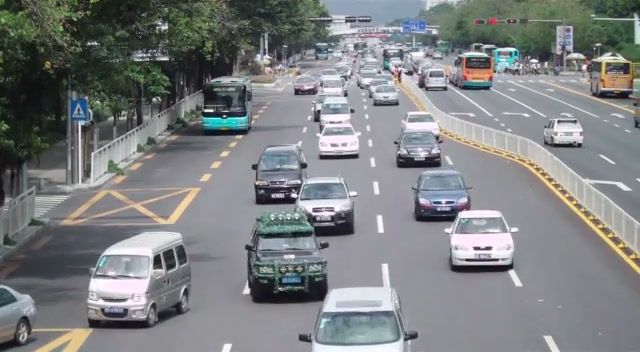bus: (201, 75, 252, 133), (589, 54, 634, 97), (450, 52, 494, 89), (490, 46, 520, 73)
car: (85, 230, 192, 328), (298, 286, 419, 352), (244, 209, 329, 302), (445, 209, 518, 271), (294, 175, 357, 234), (251, 144, 308, 204), (411, 167, 472, 221), (0, 285, 37, 346), (395, 131, 442, 168), (317, 124, 360, 159), (317, 98, 355, 134), (543, 115, 585, 147), (400, 111, 441, 142), (369, 83, 400, 105), (424, 68, 448, 91), (293, 75, 320, 95)
truck: (244, 210, 330, 302)
